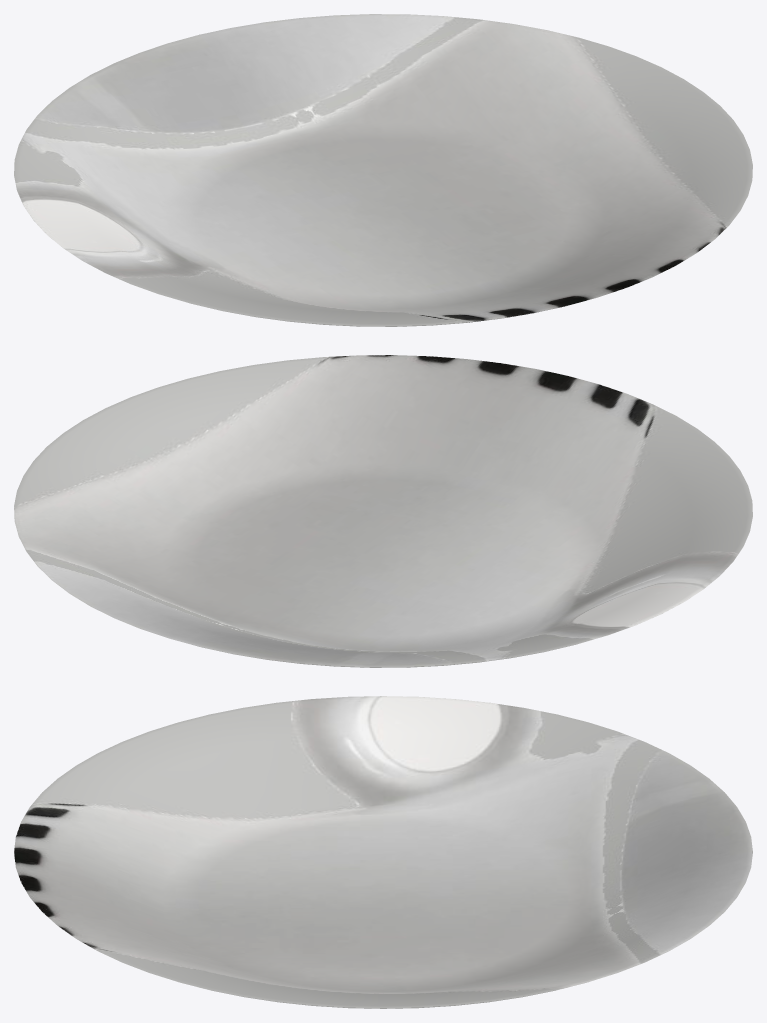
Rendered from CER-14.glb.
3 views of the same model, one above another, from view 1: azimuth 30°, elevation 25°; view 2: azimuth 150°, elevation 25°; view 3: azimuth 270°, elevation 25° (orthographic).
Bounding box in the file's own units: 0.26 × 0.022 × 0.26.
2 materials, 2 textured.
